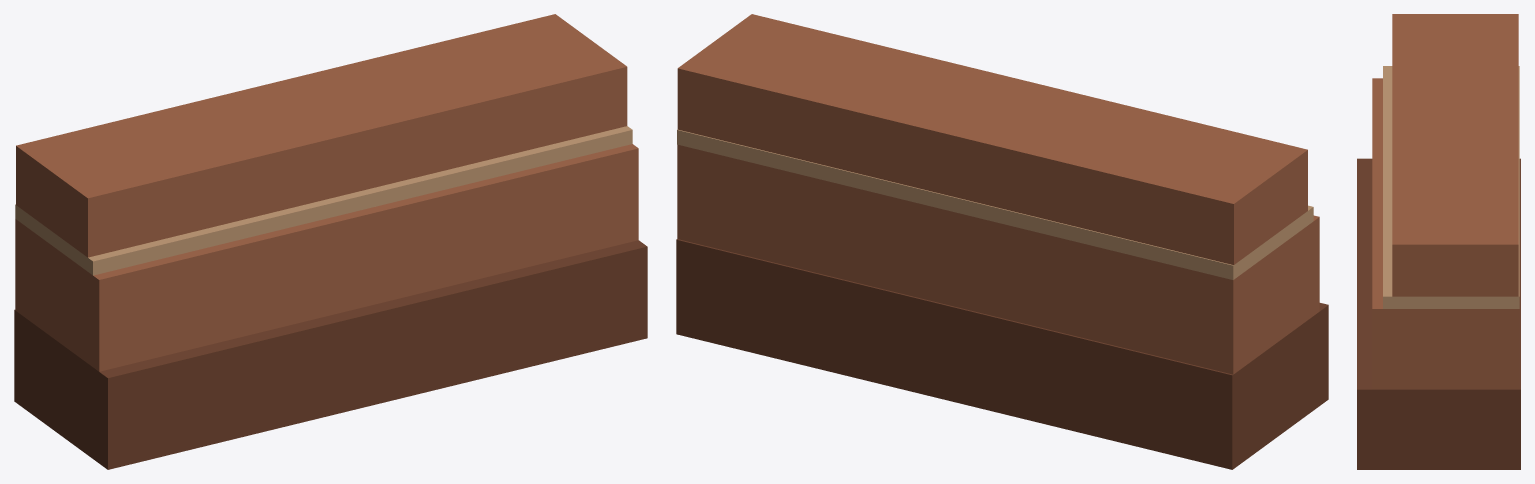
The model's file is Desert_CanyonWall_Simple.glb.
3 renders of one model, left to right at view 1: azimuth 30°, elevation 25°; view 2: azimuth 150°, elevation 25°; view 3: azimuth 270°, elevation 25°, orthographic. The views are drawn at different scales.
Parts seen in each view (by area): view 1: Desert_CanyonWall_Simple; view 2: Desert_CanyonWall_Simple; view 3: Desert_CanyonWall_Simple.
Part boxes in pixels (<box>): Desert_CanyonWall_Simple: <box>14,14,647,469</box>; Desert_CanyonWall_Simple: <box>676,14,1328,469</box>; Desert_CanyonWall_Simple: <box>1357,14,1520,469</box>.
Bounding box in the file's own units: 8 × 3.64 × 2.4.
